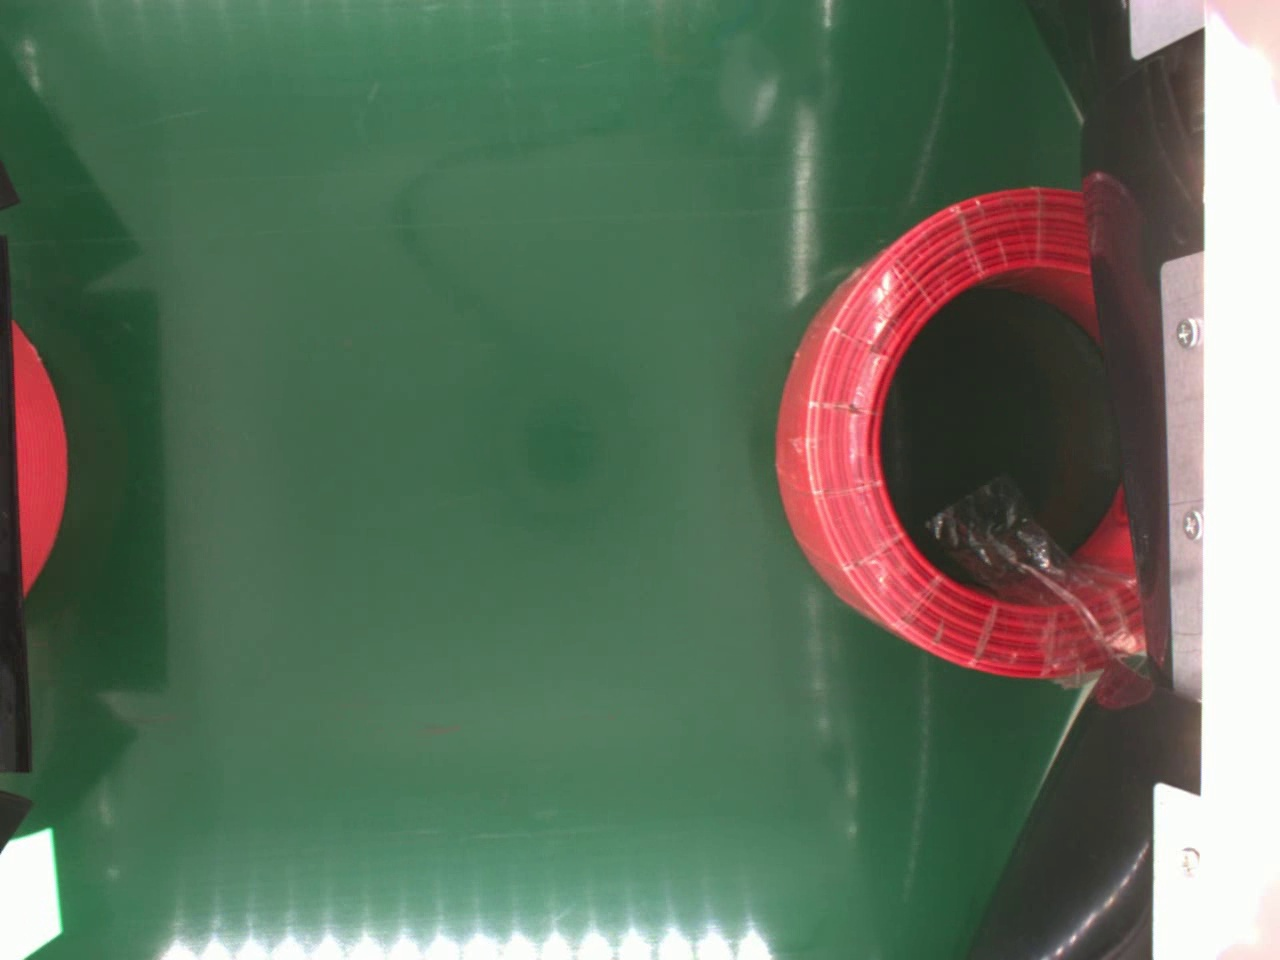red: (774, 185, 1147, 677)
